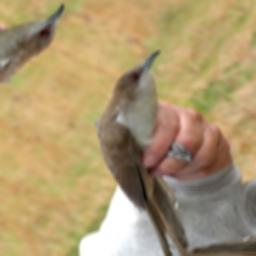Cuckoo: (23, 43, 256, 256)
